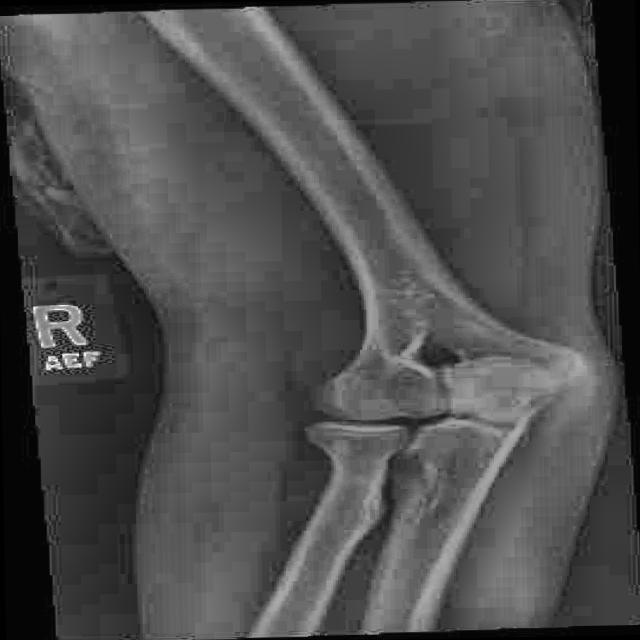elbow positive: (411, 293, 637, 465)
